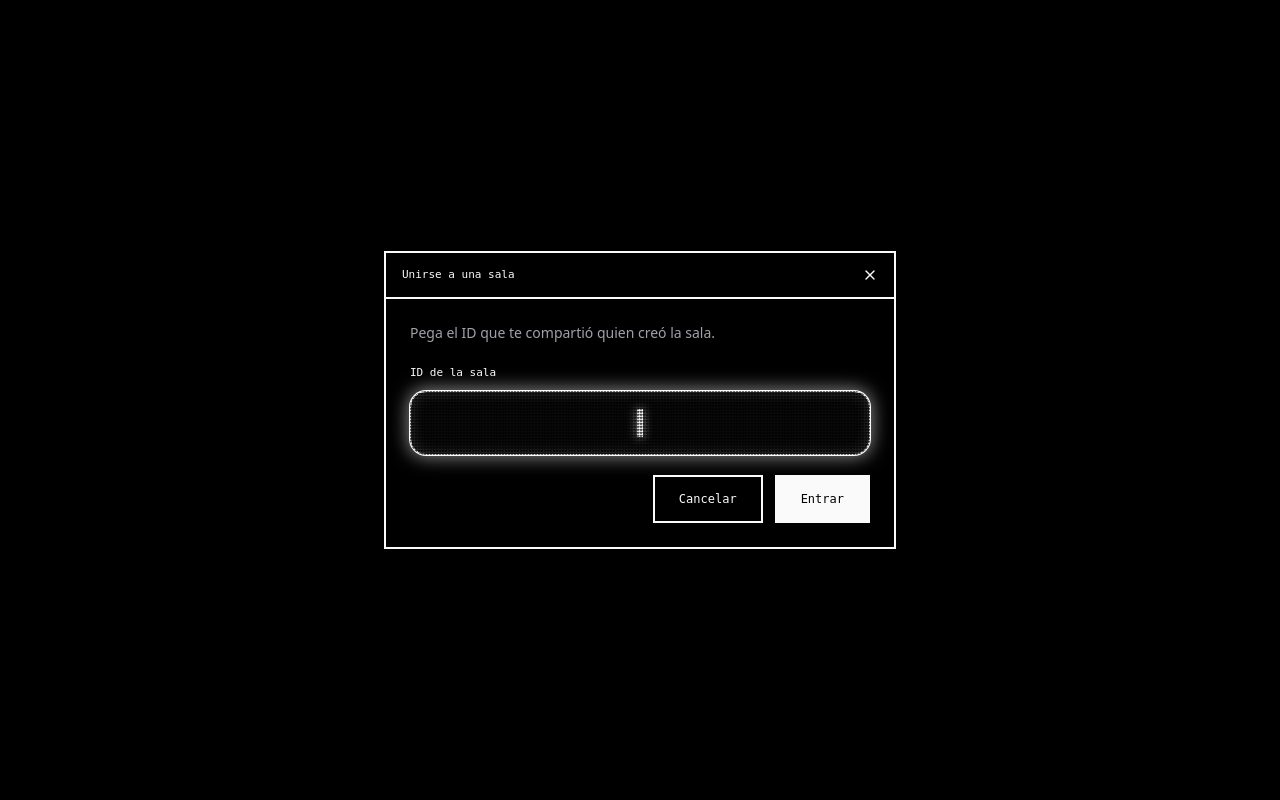
Test: Unirse a una sala (US-08) › con «abc 123» avisa sin consultar al servidor
Type "abc 123" into the field labelled "ID de la sala". click: (640, 423)
box: [410, 391, 870, 455]
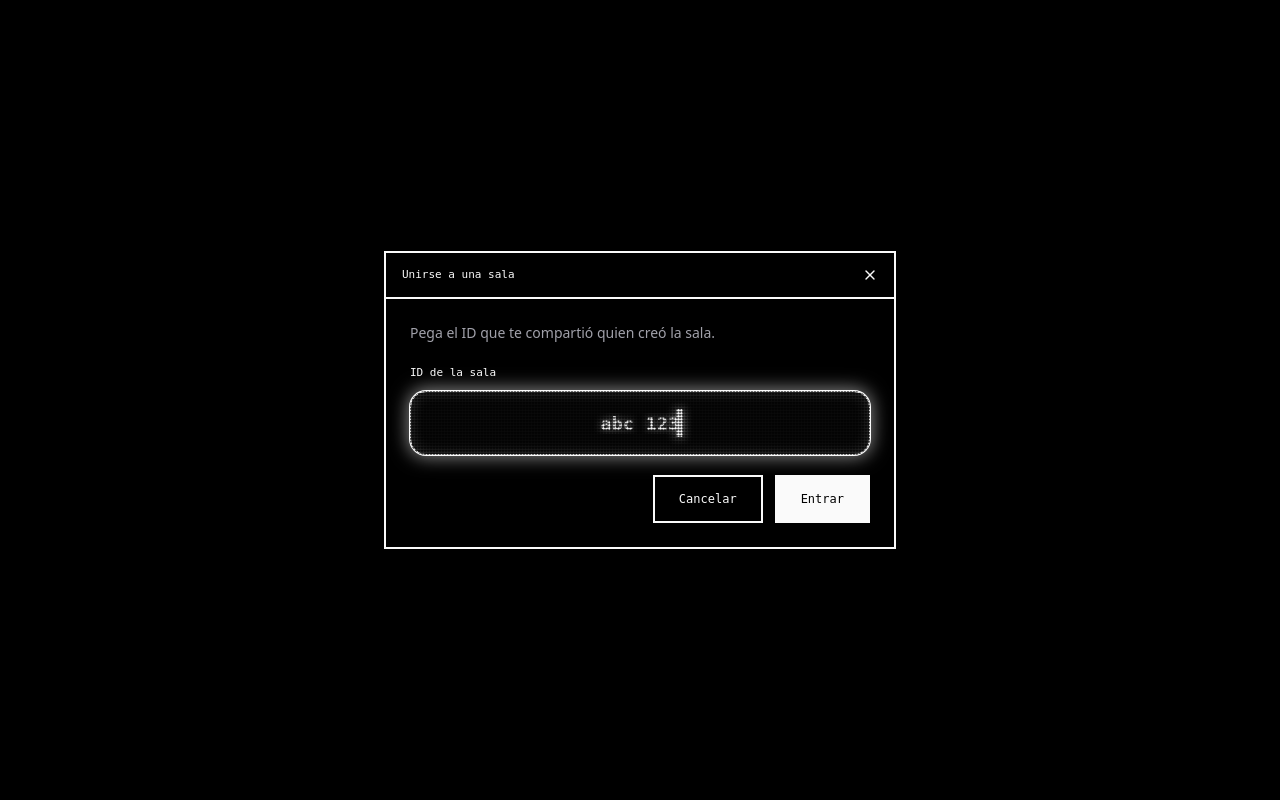
Click the button "Entrar". click: (822, 499)
box: [775, 475, 870, 523]
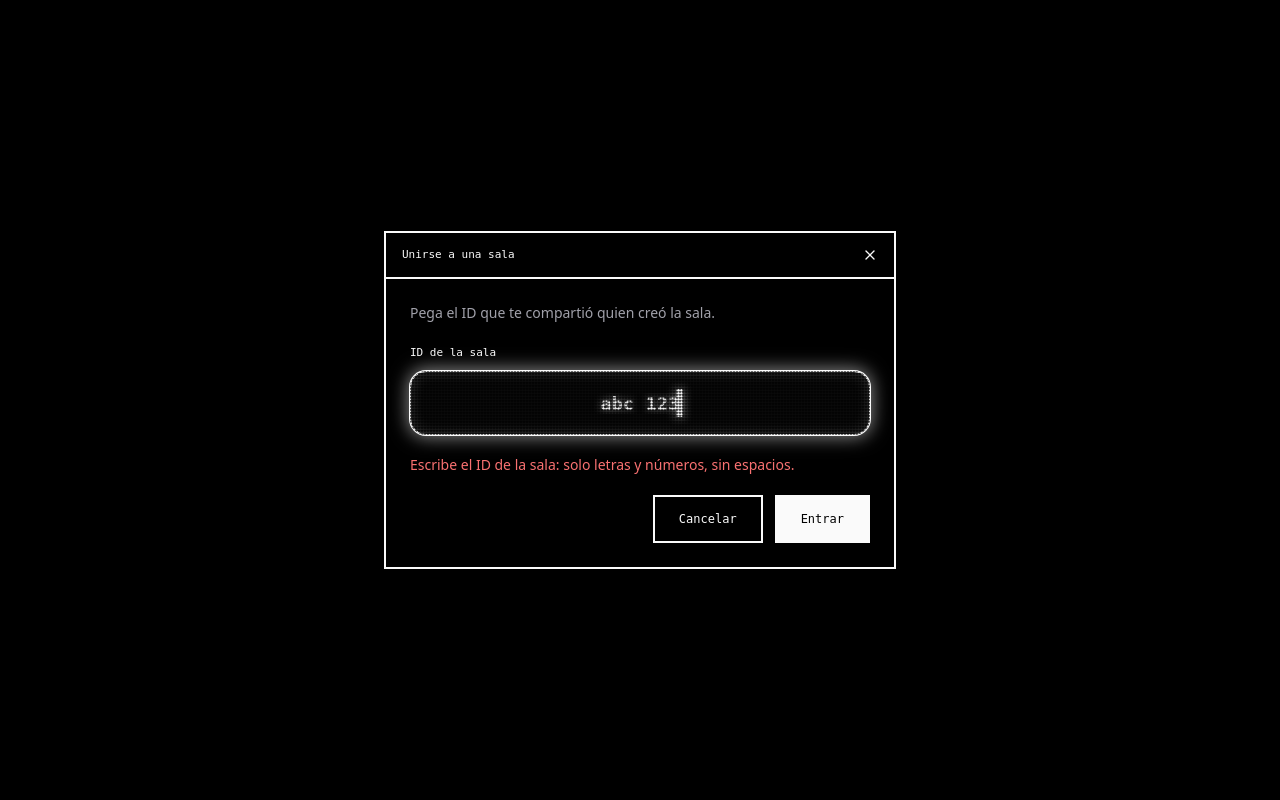
Now the message shows "solo letras y números, sin espacios", box [410, 455, 794, 474]
